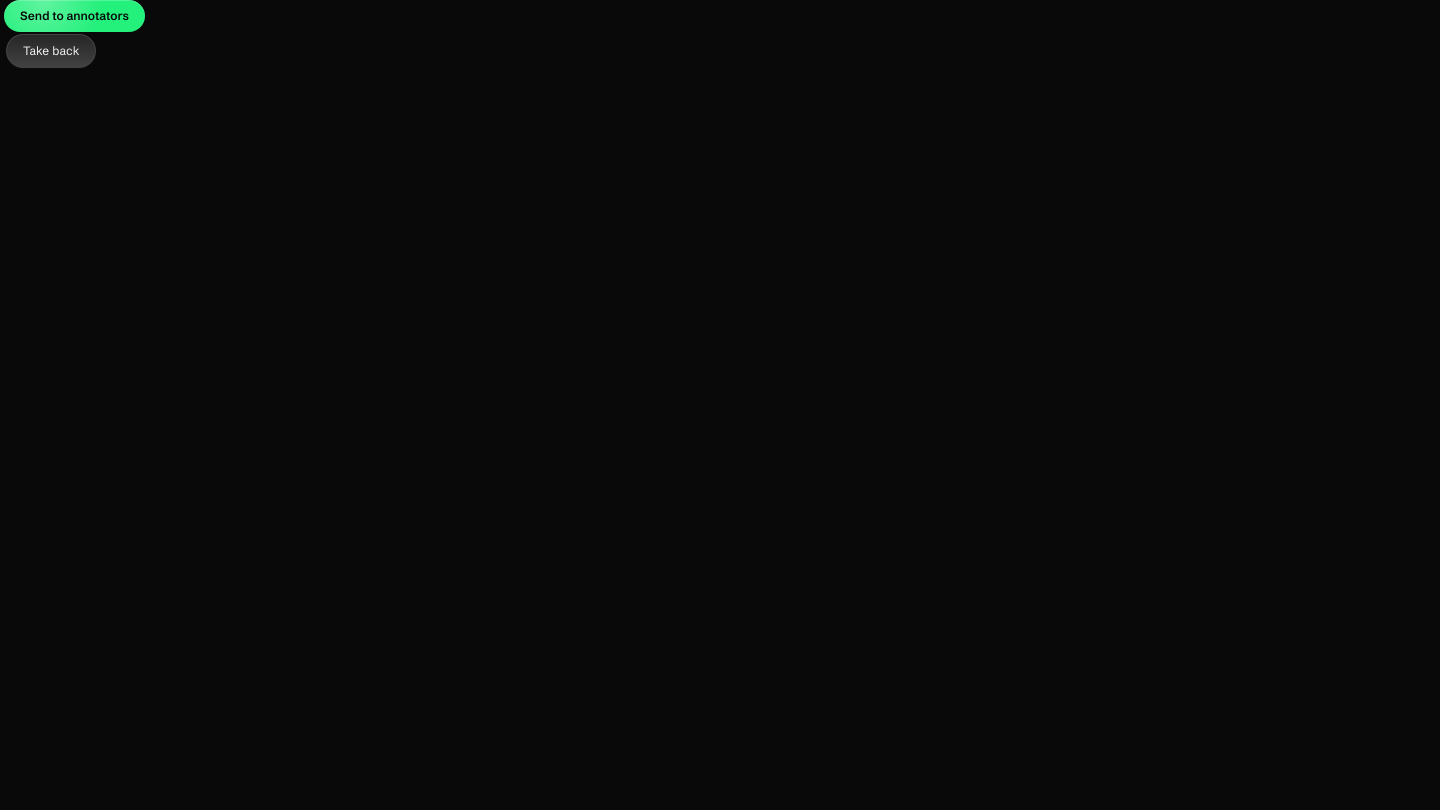
Test: sending narrations to the annotators › previews, applies with the sent count, and previews again on a 409
The image size is (1440, 810).
Click the button "Send to annotators" at (74, 16), box top-left (4, 0), bottom-right (145, 32)
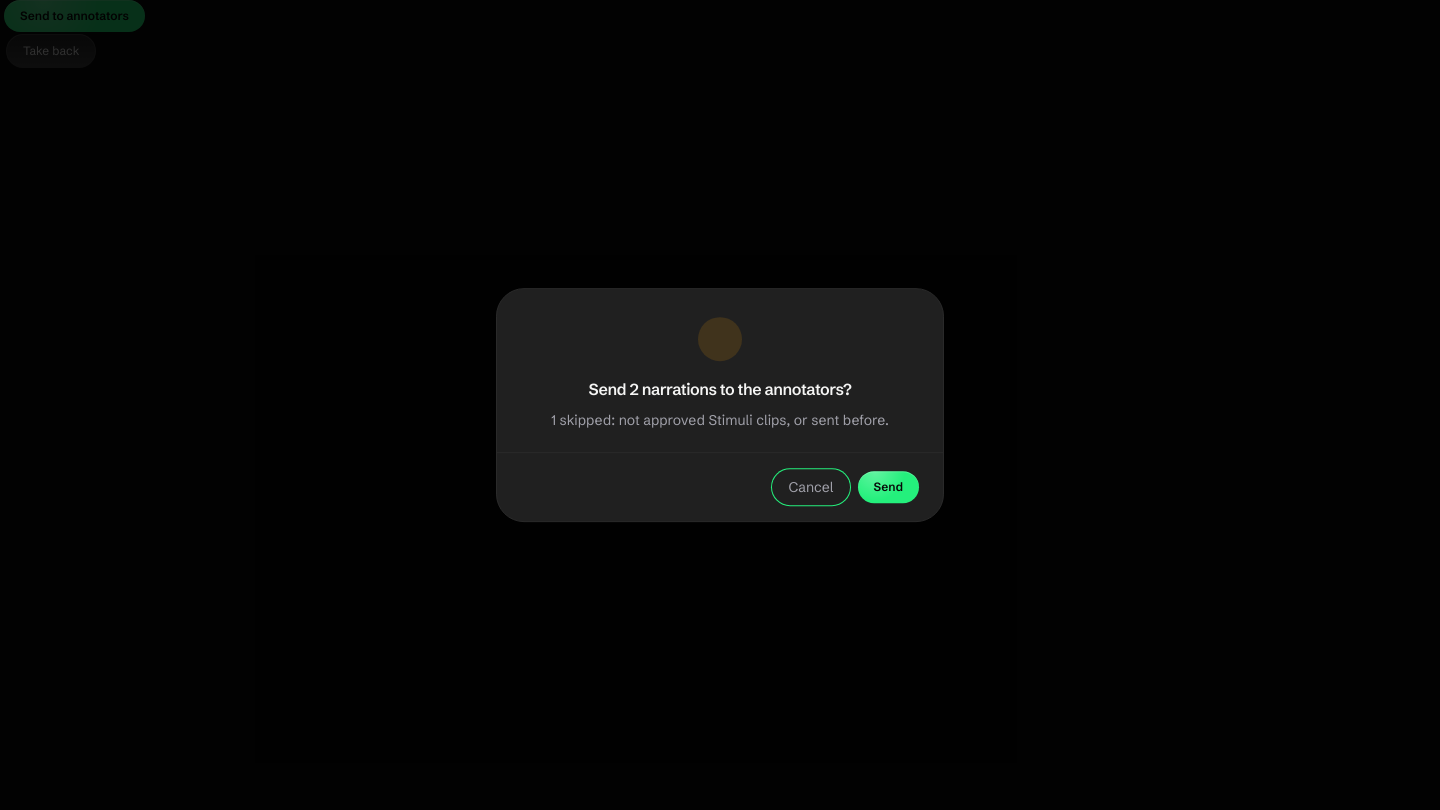
Expected: the heading "Send 2 narrations to the annotators?" is shown, top-left (588, 379), bottom-right (851, 399)
Expected: the text "1 skipped: not approved Stimuli clips, or sent before." is shown, top-left (544, 409), bottom-right (896, 432)
Click the button "Send" at (888, 487), box top-left (858, 471), bottom-right (919, 503)
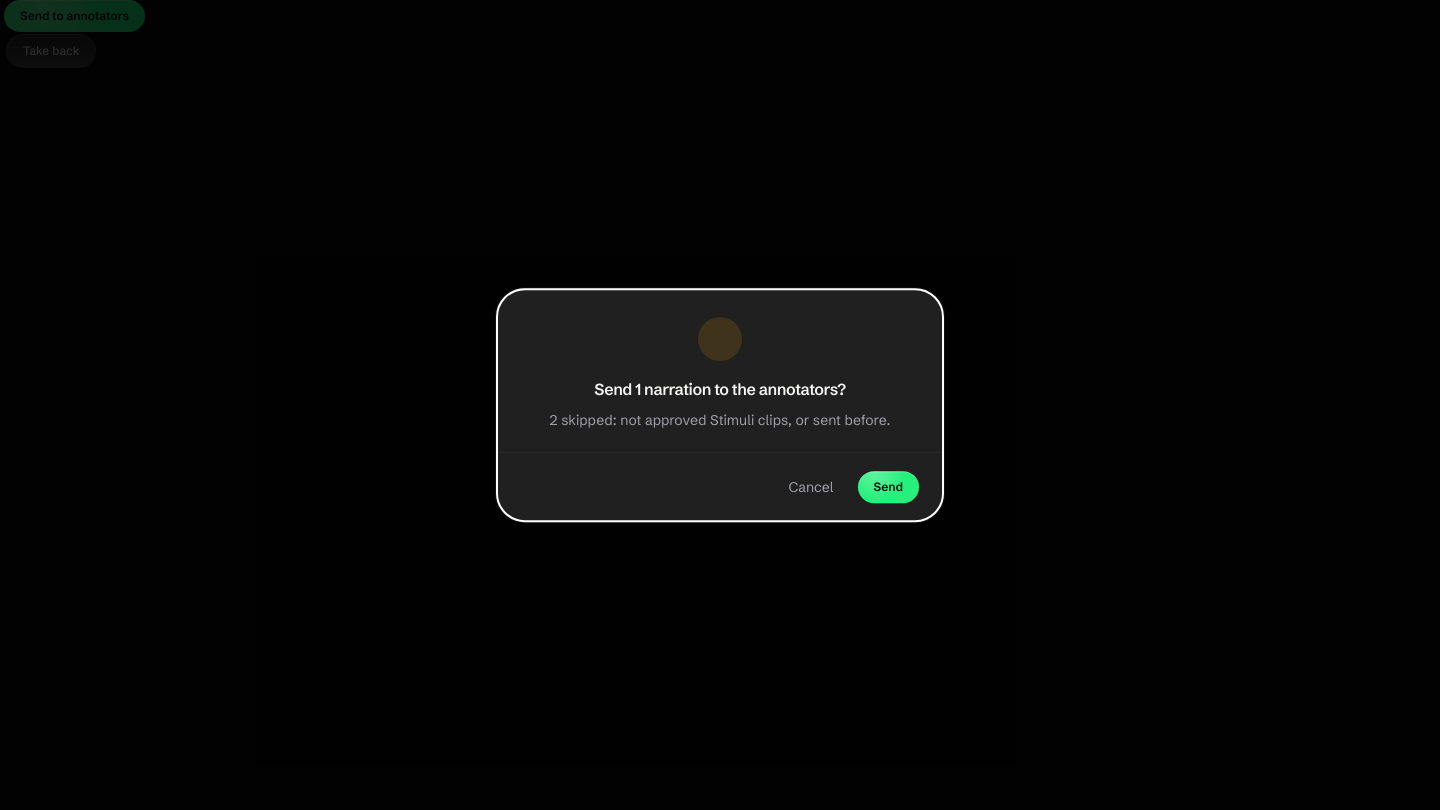
Expected: the heading "Send 1 narration to the annotators?" is shown, top-left (594, 379), bottom-right (846, 399)
Expected: the text "2 skipped: not approved Stimuli clips, or sent before." is shown, top-left (544, 409), bottom-right (896, 432)
Click the button "Send" at (888, 487), box top-left (858, 471), bottom-right (919, 503)
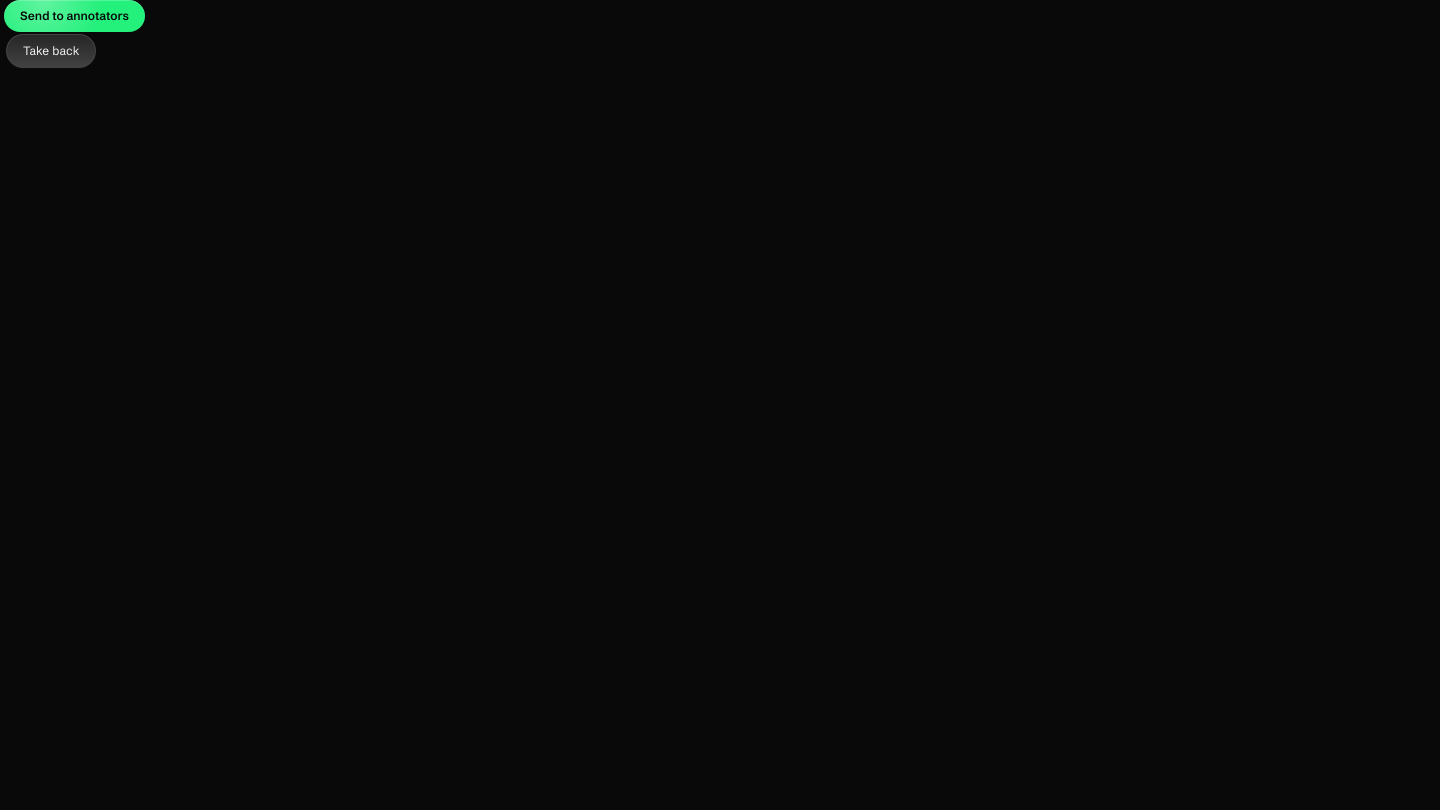
Expected: the dialog is gone
